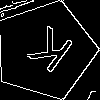K: (20, 25, 76, 82)
